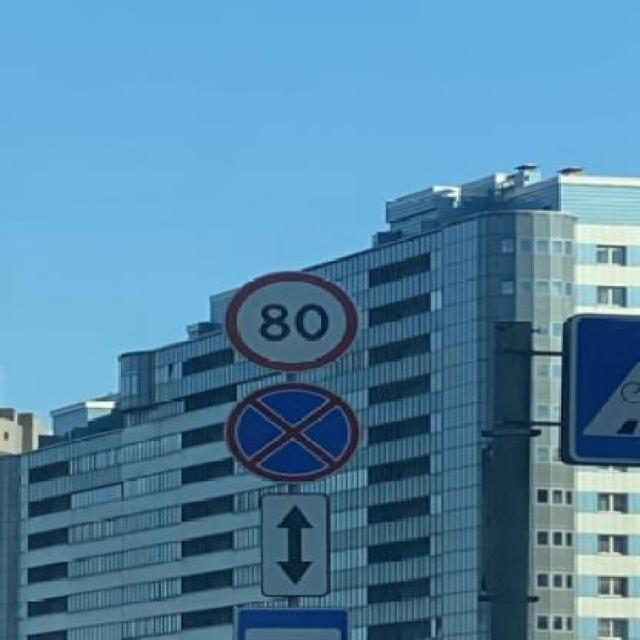forb_speed_over_80: (232, 271, 359, 369)
